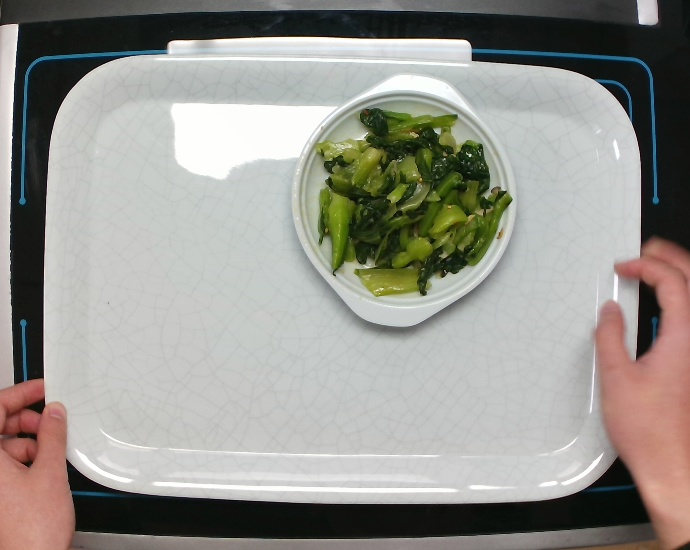JYsf-Shuang_Er_Pan: (284, 68, 517, 331)
